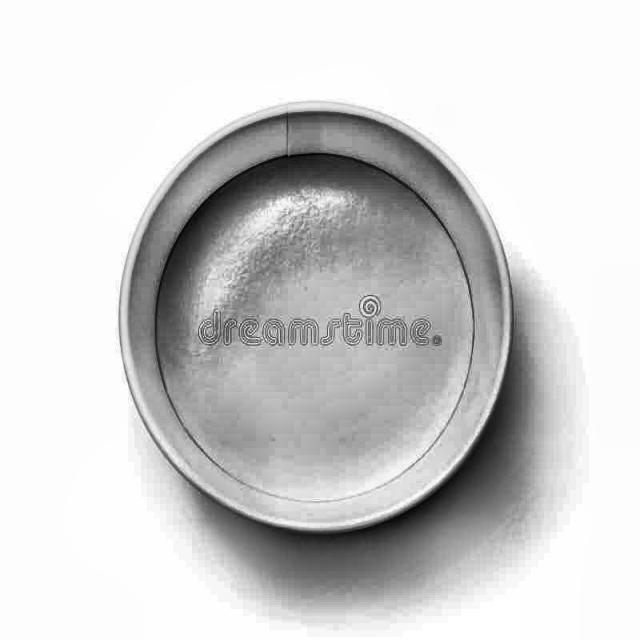Cup: (102, 96, 523, 550)
